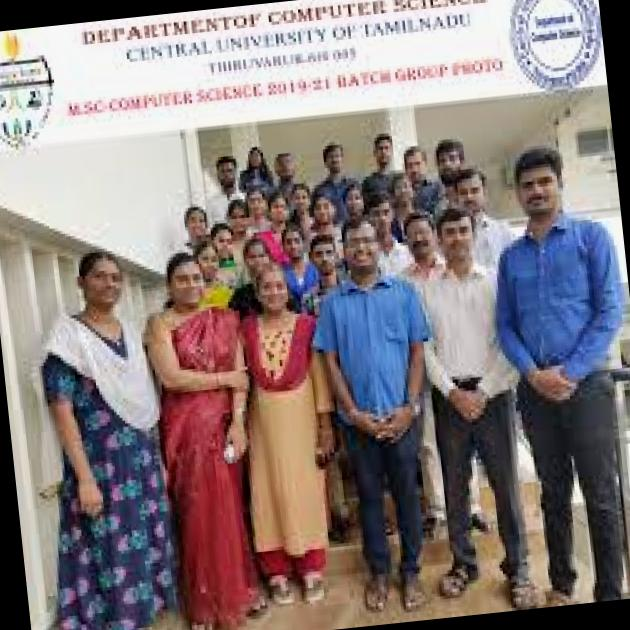there is a person: (512, 149, 630, 562), (31, 248, 174, 562), (310, 210, 450, 500), (420, 202, 538, 481), (154, 243, 243, 550), (251, 252, 345, 508)
